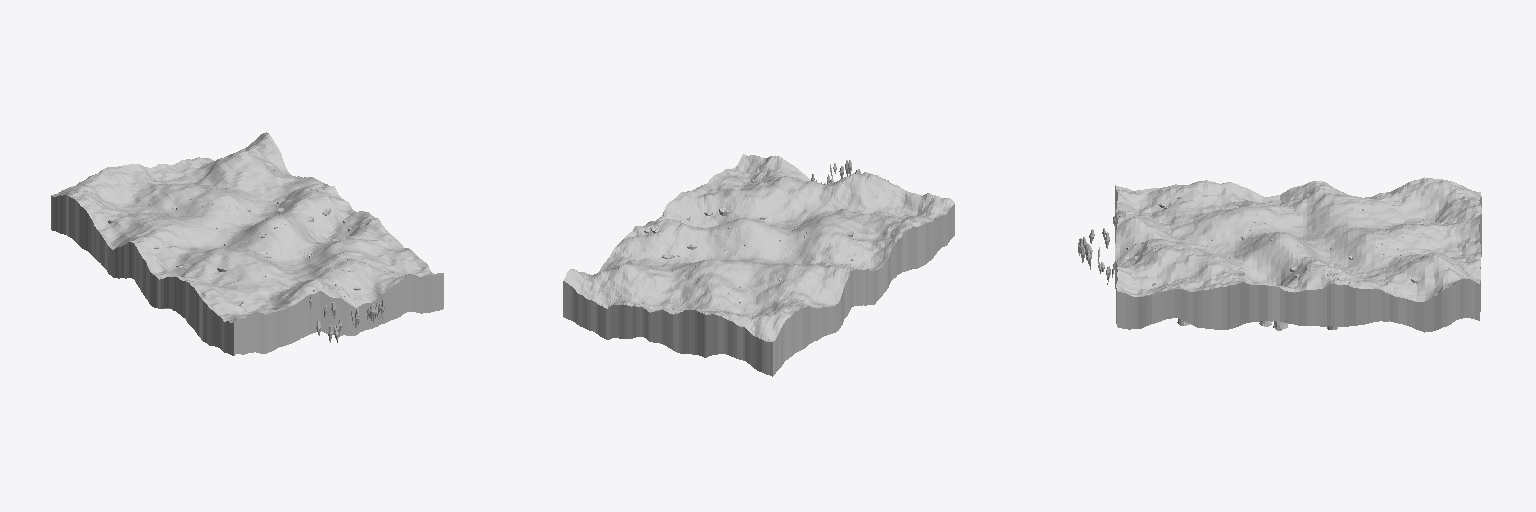
The model's file is final_cave.obj.
3 renders of one model, left to right at view 1: azimuth 30°, elevation 25°; view 2: azimuth 150°, elevation 25°; view 3: azimuth 270°, elevation 25°, orthographic.
Bounding box in the file's own units: 102 × 29.27 × 167.